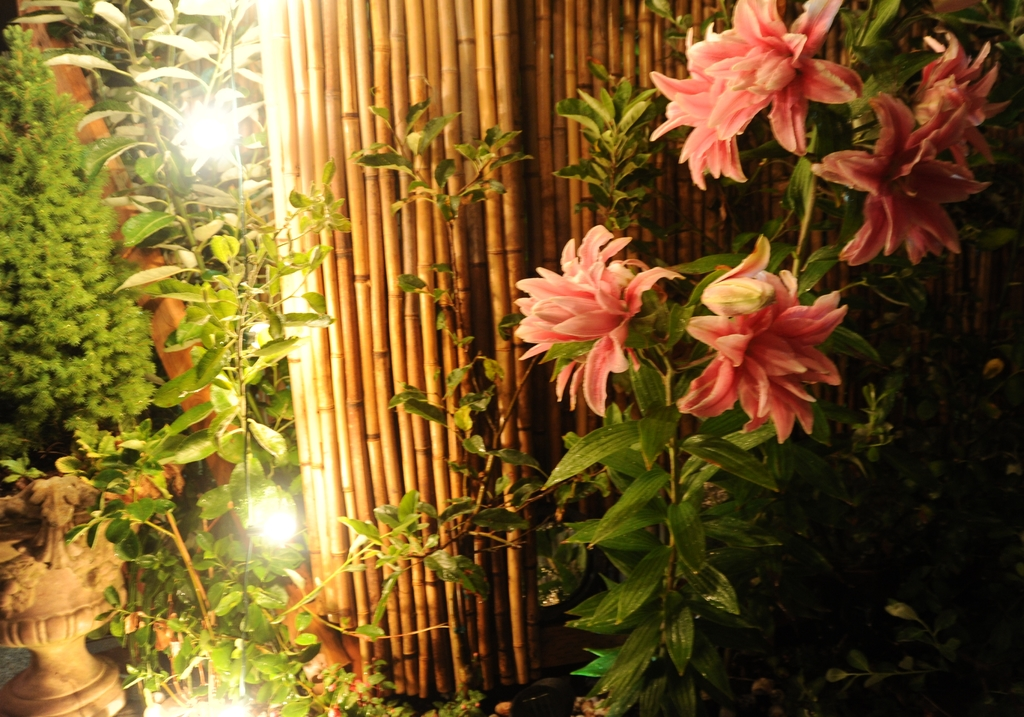Tree: (0, 28, 162, 480)
